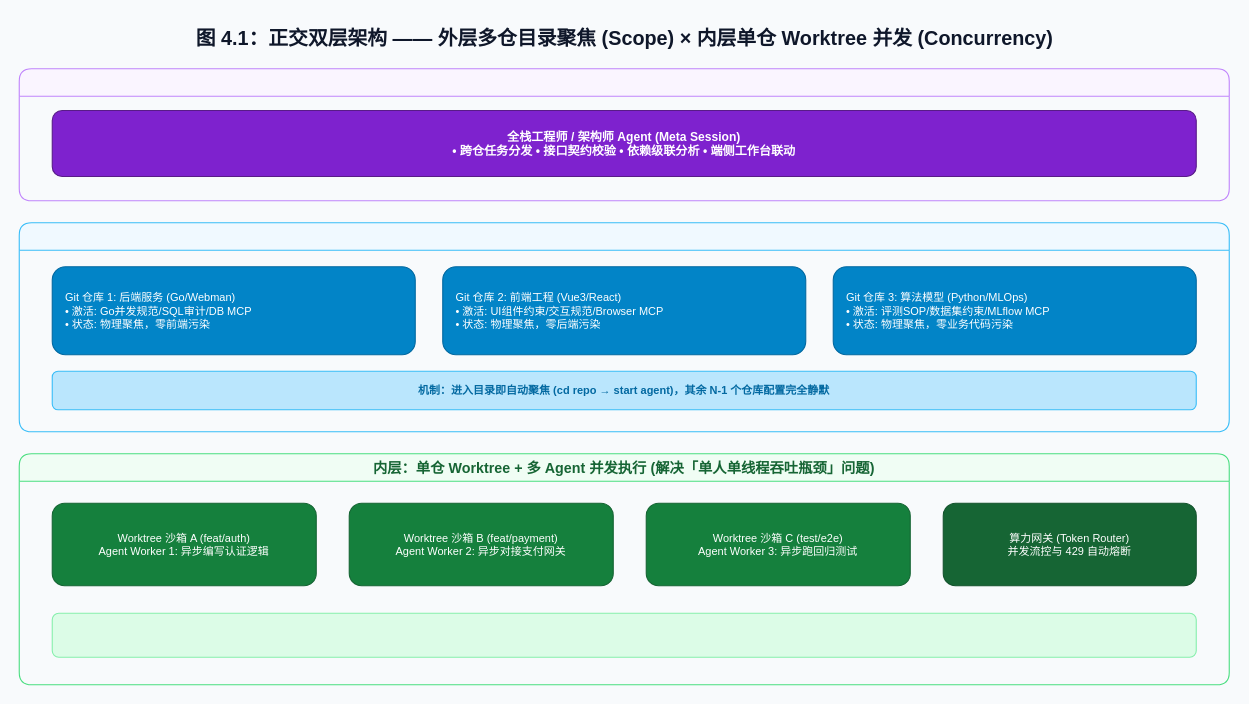
Image size: 1249x704. Some labels were removed from this diagram. The box of each missing label's shape, as (x1, y1, x2, y2) in pixels:
外层：多 Git 仓库目录作用域聚焦 (解决「上下文污染与技术栈错配」问题): (18, 222, 1229, 432)
结论：外层按目录隔离上下文（管聚焦），内层拉 Worktree 分支跑多 Agent（管并发），二者正交叠加，完美闭环！: (51, 612, 1196, 657)
顶层 Meta-Repo 编排层 (跨仓导航 / 接口契约 / 影响分析): (18, 68, 1229, 201)
